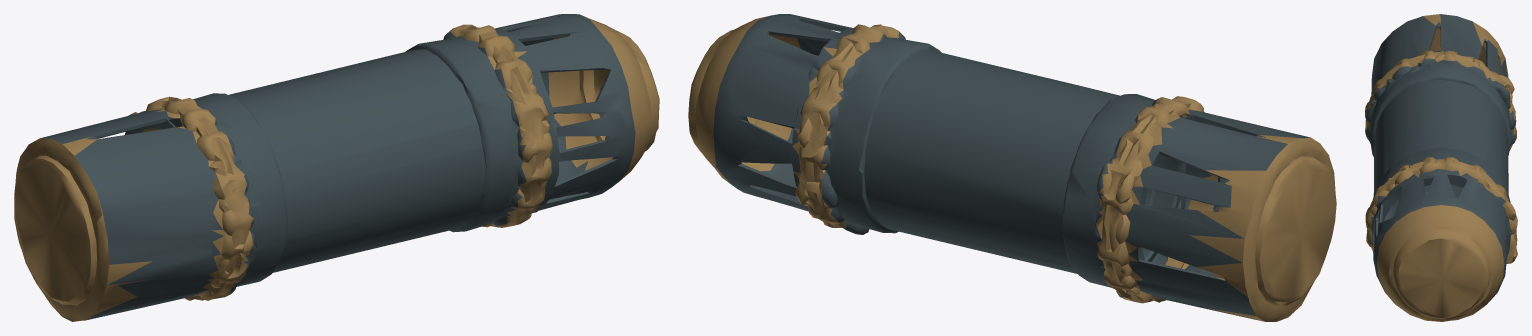
Rendered from 05_LowerSalvage.glb.
The picture shows the model from 3 angles, left to right: view 1: azimuth 30°, elevation 25°; view 2: azimuth 150°, elevation 25°; view 3: azimuth 270°, elevation 25°; orthographic projection. The views are drawn at different scales.
Visible parts, largest first — view 1: SM_TS_BrineMK1_LowerSalvage_V02; view 2: SM_TS_BrineMK1_LowerSalvage_V02; view 3: SM_TS_BrineMK1_LowerSalvage_V02.
Boxes of the visible parts, x1,y1,x2,y2 form: SM_TS_BrineMK1_LowerSalvage_V02: (14,14,659,321); SM_TS_BrineMK1_LowerSalvage_V02: (688,14,1336,321); SM_TS_BrineMK1_LowerSalvage_V02: (1365,14,1517,321).
Size of the model in its own units: 0.3419 by 0.1068 by 0.1068.
